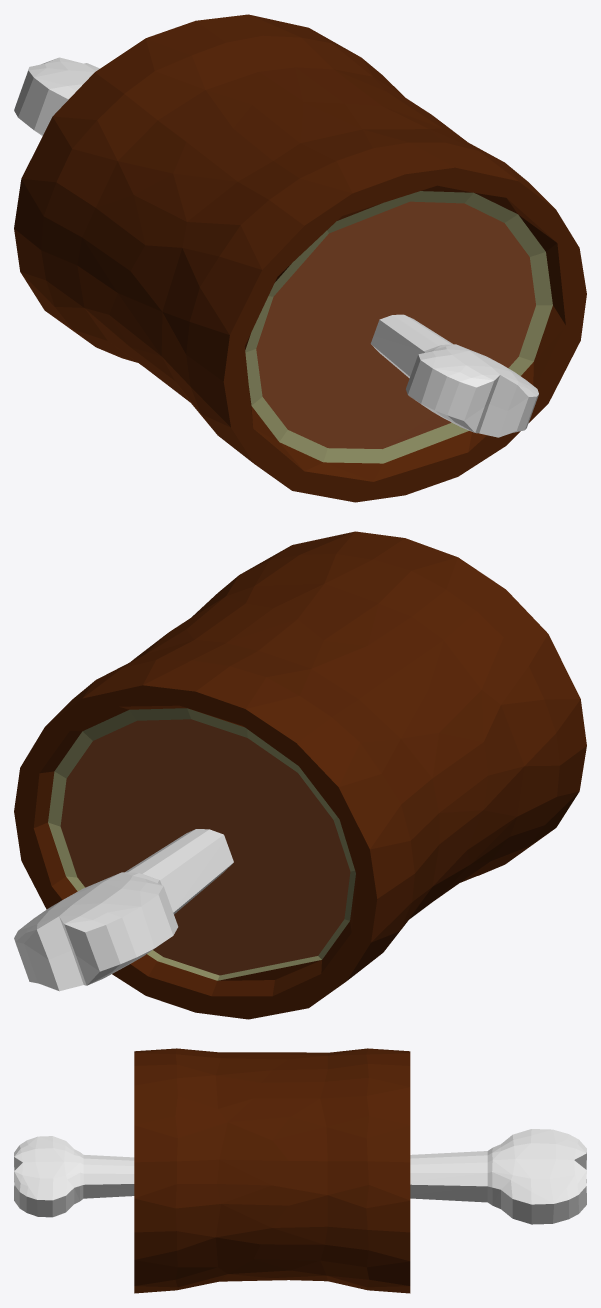
Rendered from Carne3.fbx.
The picture shows the model from 3 angles, top to bottom: view 1: azimuth 30°, elevation 25°; view 2: azimuth 150°, elevation 25°; view 3: azimuth 270°, elevation 25°; orthographic projection. The views are drawn at different scales.
Parts seen in each view (by area): view 1: Carne3; view 2: Carne3; view 3: Carne3.
Boxes of the visible parts, left/top/right/bottom form: Carne3: left=14, top=14, right=586, bottom=502; Carne3: left=14, top=531, right=586, bottom=1019; Carne3: left=14, top=1048, right=586, bottom=1293.
Bounding box in the file's own units: 103 × 85.05 × 207.
